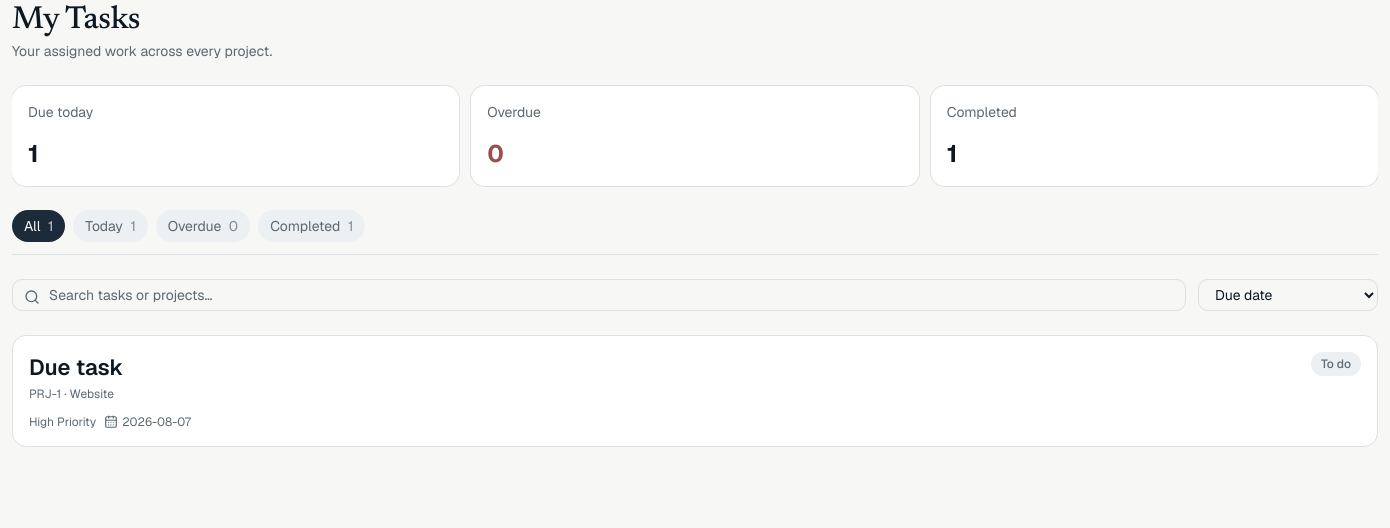
MyTasksDashboard › switches to completed tasks and searches by project
Click the button "completed 1" at (312, 226), box left=258, top=210, right=365, bottom=242
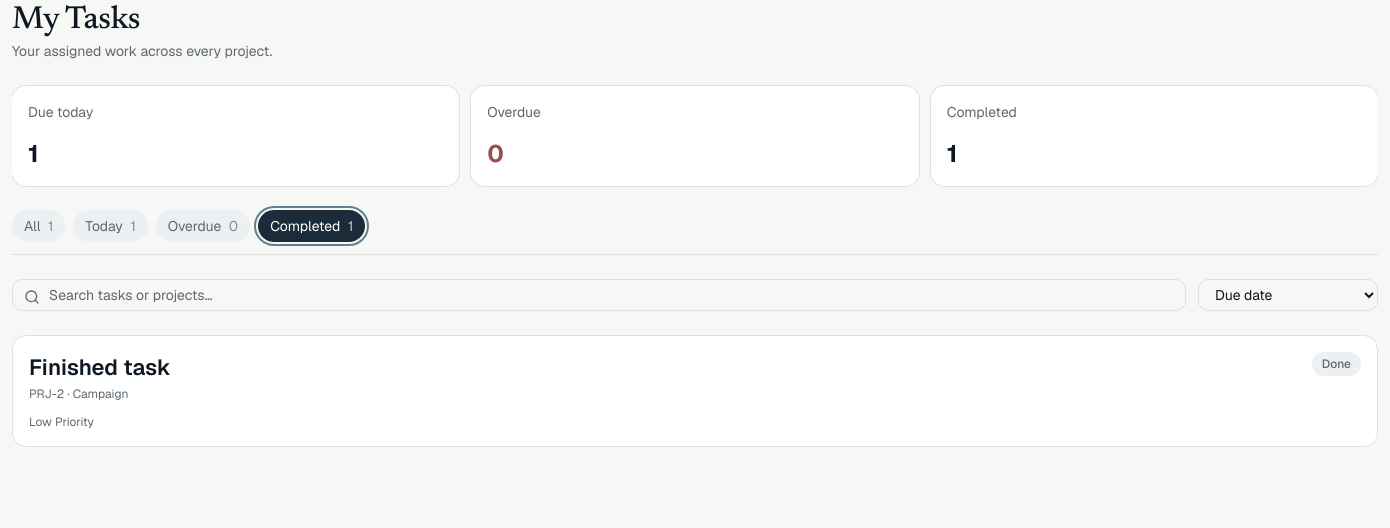
Now the heading "Finished task" is shown, box left=29, top=352, right=171, bottom=382
Type "Website" into the field named "Search my tasks" at (599, 295), box left=12, top=279, right=1186, bottom=311
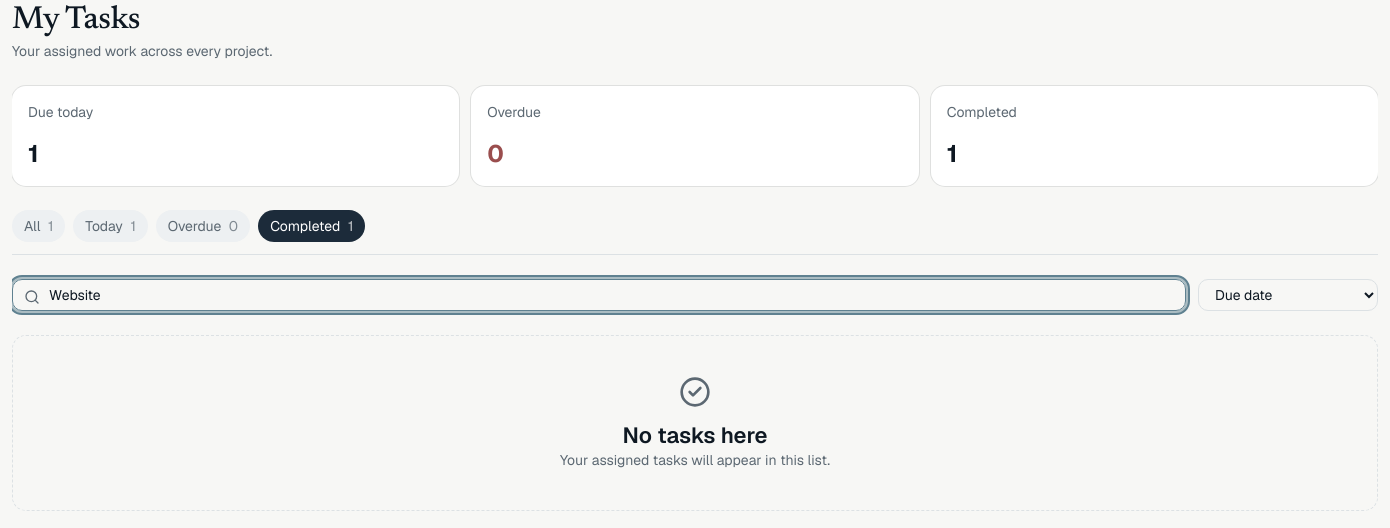
Now the heading "No tasks here" is shown, box left=622, top=421, right=768, bottom=449
